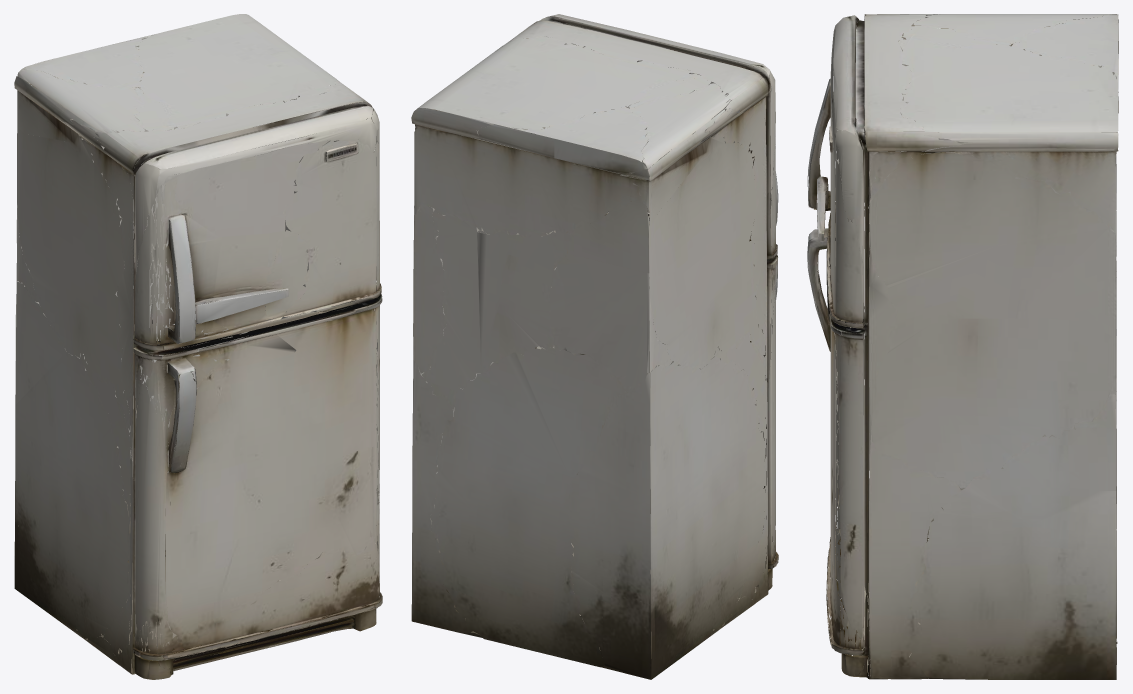
File: fridge_lod0.glb
3 renders of one model, left to right at view 1: azimuth 30°, elevation 25°; view 2: azimuth 150°, elevation 25°; view 3: azimuth 270°, elevation 25°, orthographic. The views are drawn at different scales.
Parts seen in each view (by area): view 1: node_0; view 2: node_0; view 3: node_0.
Part boxes in pixels (<box>): node_0: <box>14,14,382,679</box>; node_0: <box>411,14,778,679</box>; node_0: <box>807,14,1118,679</box>.
Bounding box in the file's own units: 0.491 × 1 × 0.5139.
Materials: 1 (1 with a texture image).
